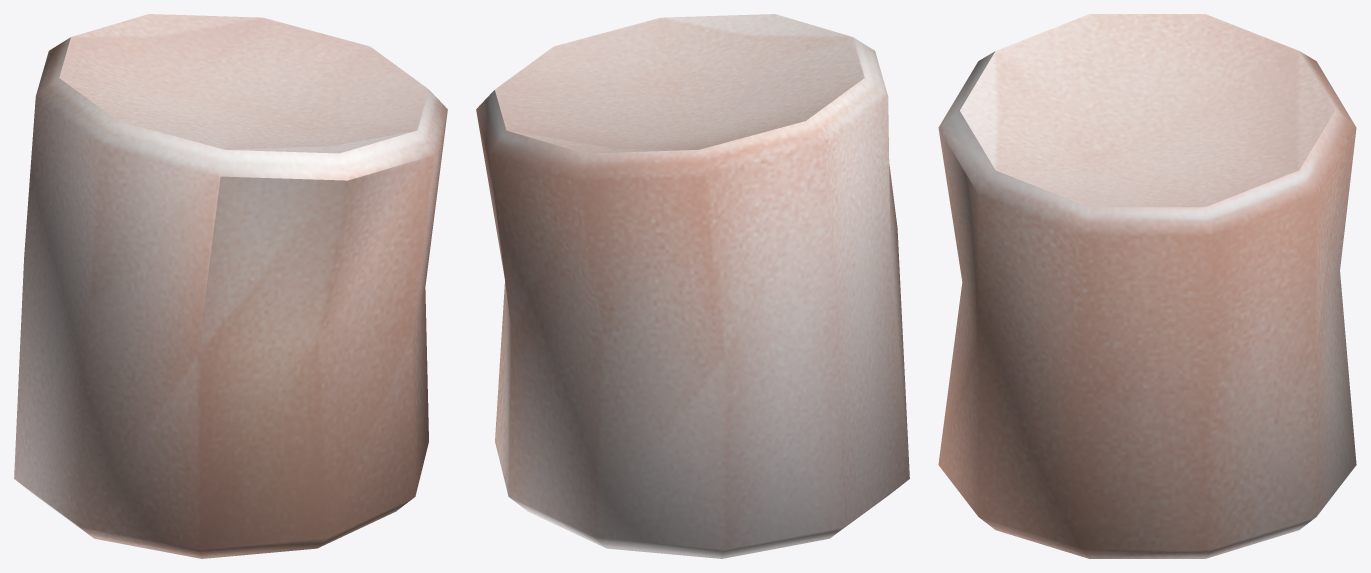
File: bombon.fbx
3 views of the same model, side by side, from view 1: azimuth 30°, elevation 25°; view 2: azimuth 150°, elevation 25°; view 3: azimuth 270°, elevation 25° (orthographic).
Parts seen in each view (by area): view 1: marshmallow; view 2: marshmallow; view 3: marshmallow.
Boxes of the visible parts, <box> form: marshmallow: <box>14,14,447,558</box>; marshmallow: <box>476,14,909,558</box>; marshmallow: <box>938,14,1356,558</box>.
Size of the model in its own units: 47.78 by 51.07 by 47.72.
1 material, 1 textured.
